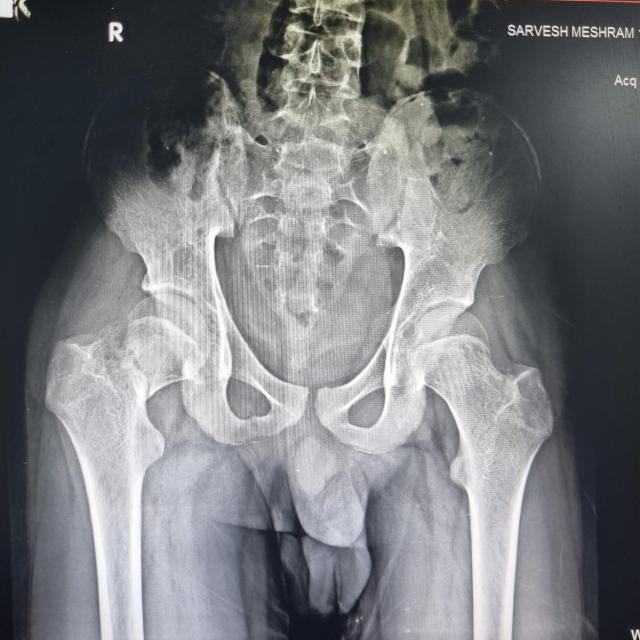normal-left: (407, 307, 553, 547)
right-neck: (46, 322, 165, 549), (123, 292, 211, 400)
